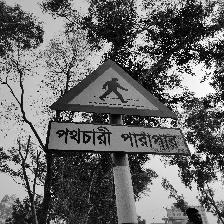Pedestrian-crossing: (47, 58, 189, 155)
